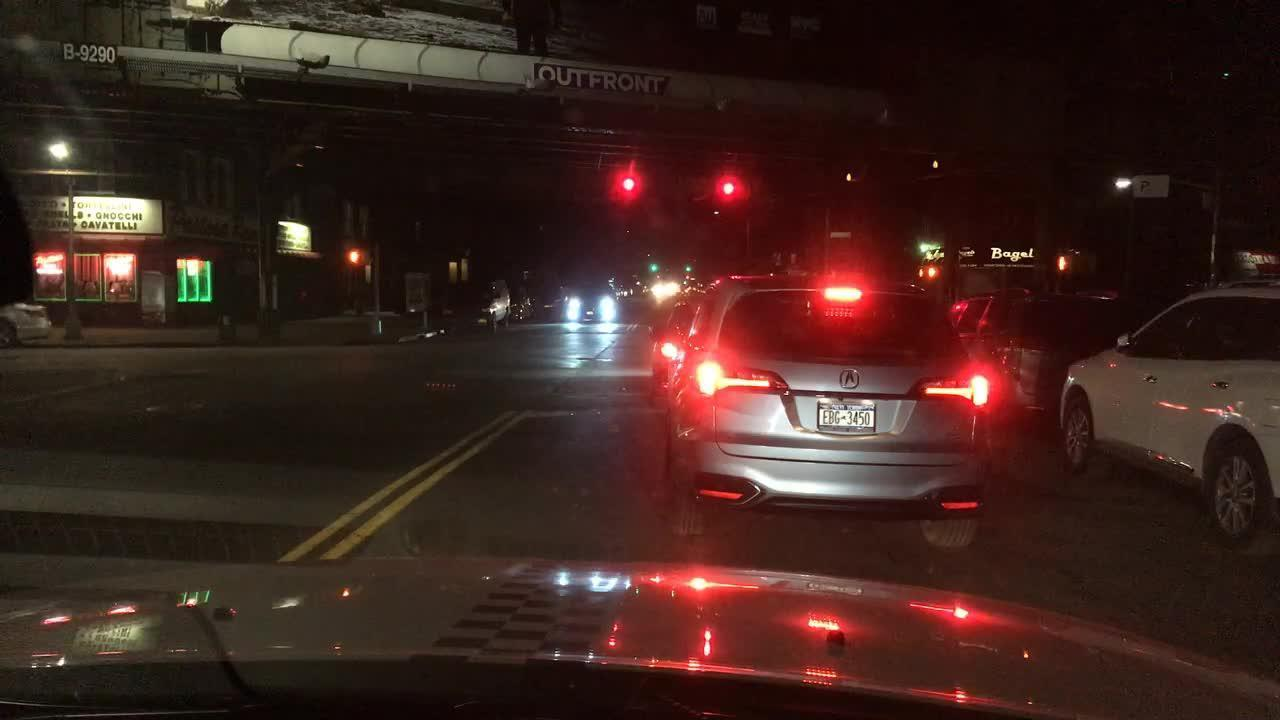acura: (829, 364, 866, 397)
